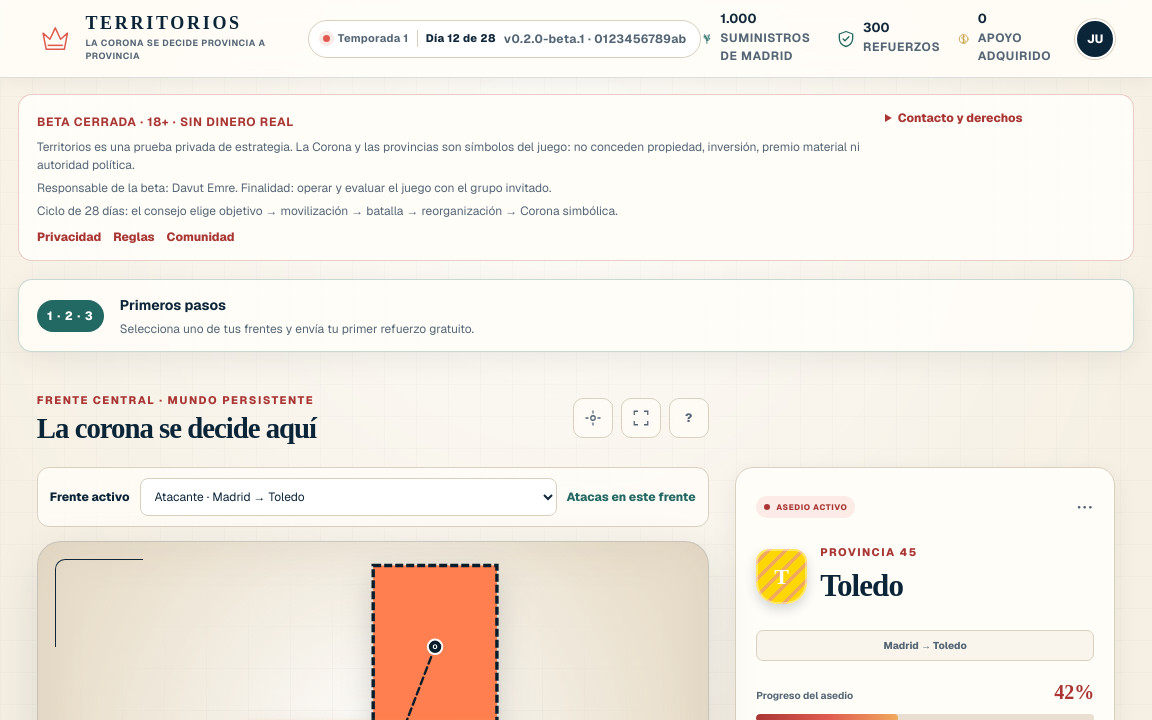
Test: TerritoriosGame › uses server capabilities to select an eligible front and never offers support to an observer
The image size is (1152, 720).
Select "Observación · Barcelona → Valencia" in the dropdown labelled "Frente activo": (348, 496) [140, 478, 556, 516]
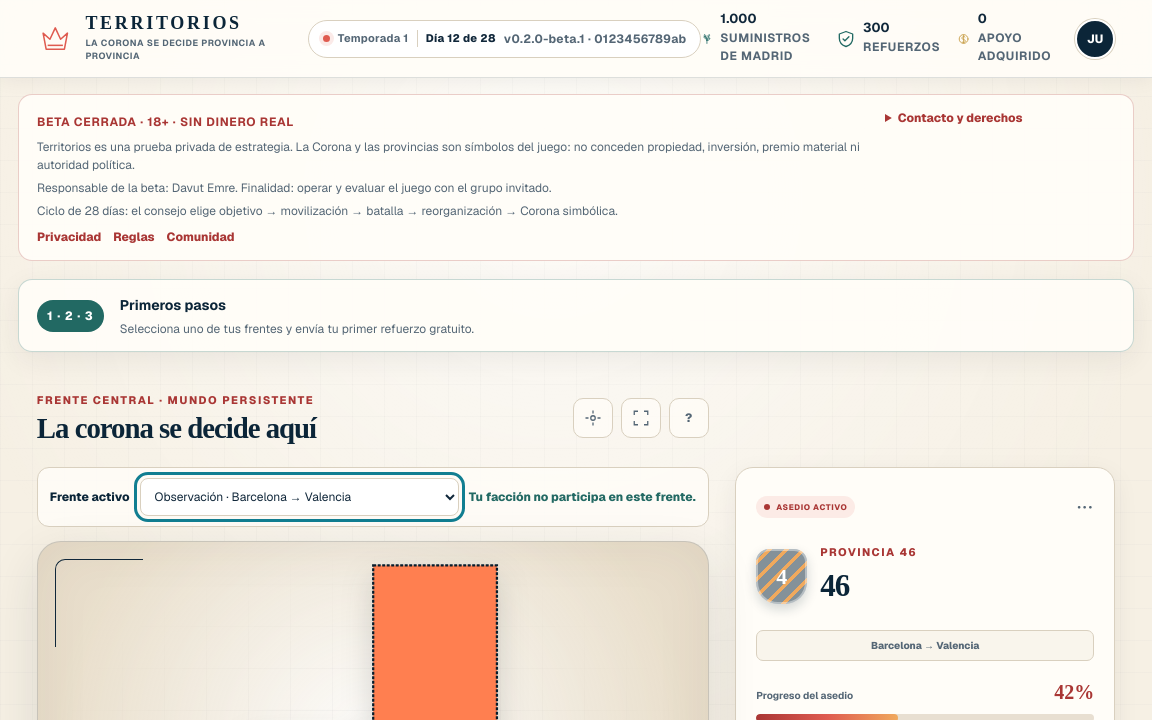
Expected: the text "Tu facción no participa en este frente." is shown, [469, 488, 696, 506]
